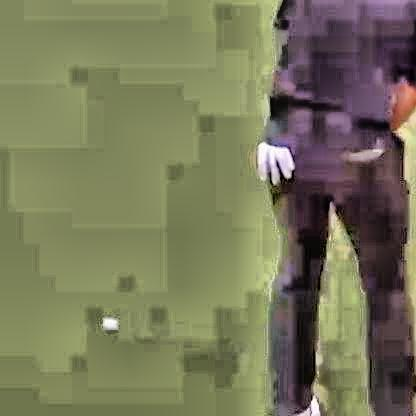golfball: (98, 314, 116, 331)
